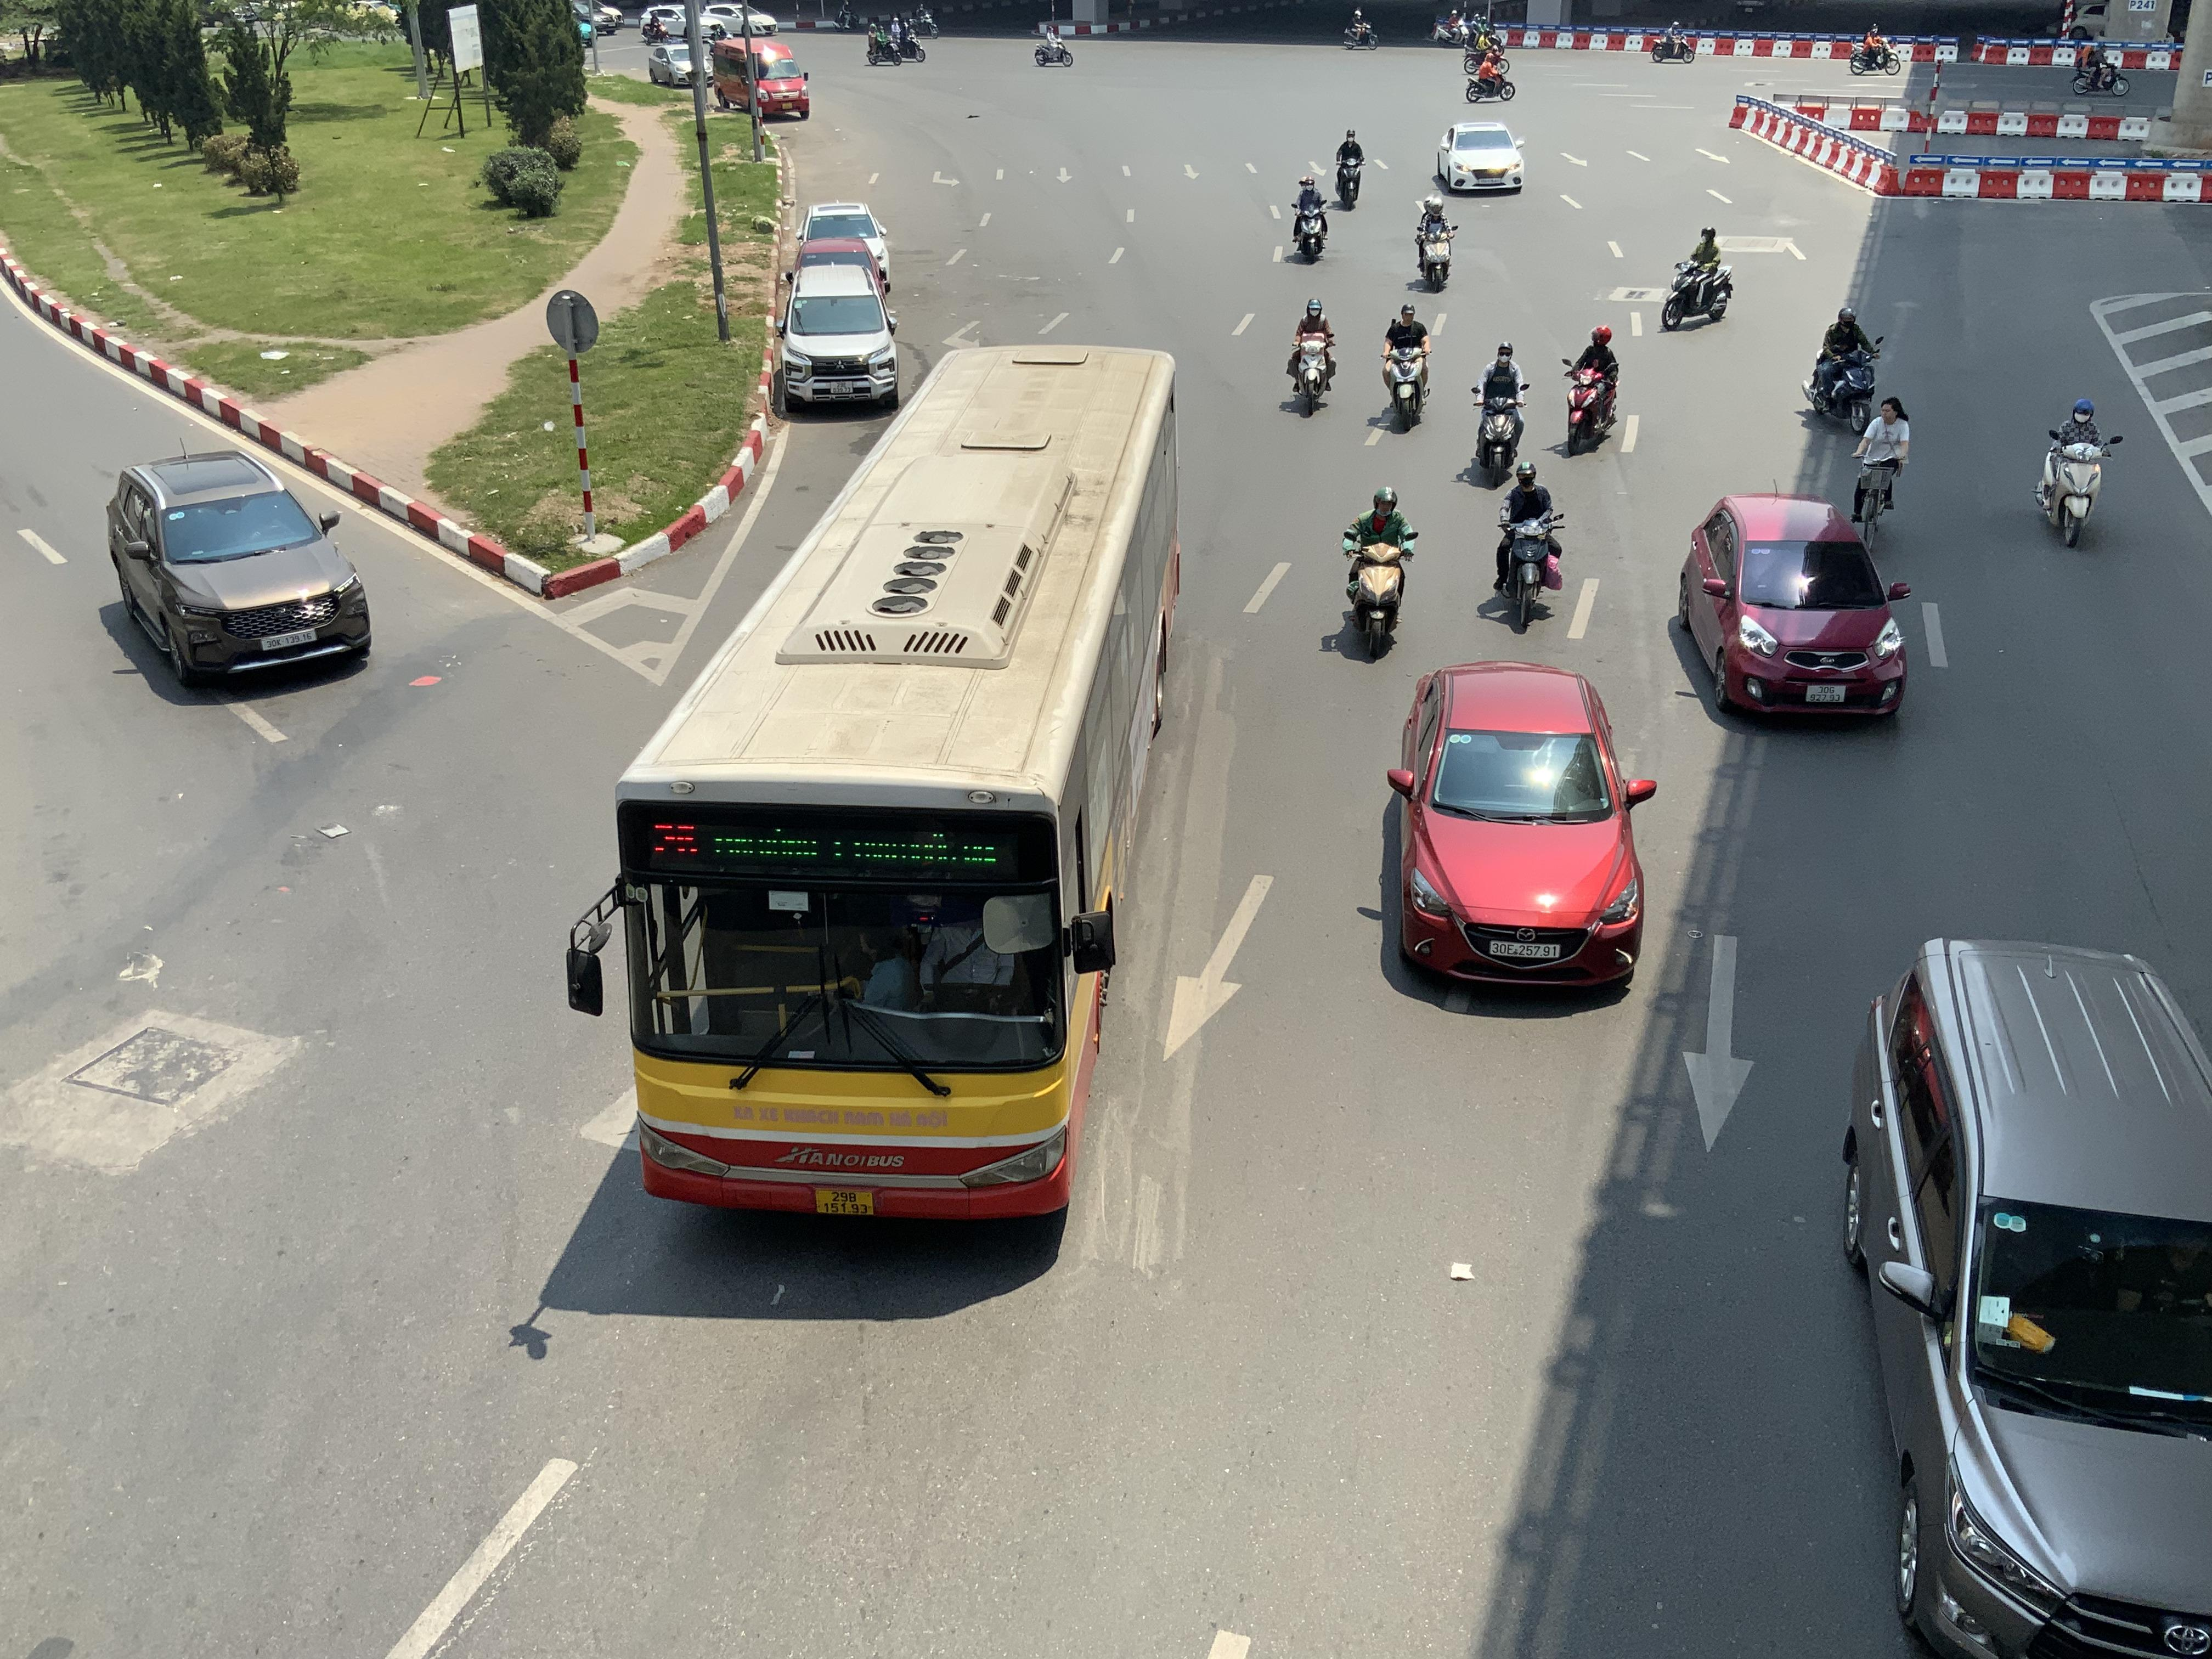BSD: (1491, 941, 1562, 960), (261, 629, 315, 652)
BSV: (815, 1188, 874, 1215), (1806, 685, 1844, 704), (831, 380, 853, 394)
bus: (578, 338, 1186, 1225)
car: (1836, 934, 2212, 1659), (1378, 660, 1658, 995), (105, 448, 373, 687), (1670, 493, 1912, 721), (775, 256, 900, 410), (794, 199, 892, 291), (709, 38, 810, 119), (1433, 120, 1524, 195)
motorbike: (1336, 484, 1416, 662), (1484, 464, 1566, 634), (2036, 394, 2121, 551), (1801, 303, 1883, 432), (1468, 340, 1529, 488), (1850, 396, 1909, 544), (1561, 324, 1620, 457), (1660, 225, 1733, 329), (1376, 300, 1433, 432), (1284, 298, 1338, 416), (1411, 193, 1456, 293), (1287, 173, 1329, 265), (866, 10, 927, 64), (1465, 38, 1515, 103), (1332, 127, 1366, 209), (1848, 30, 1902, 75), (1649, 21, 1698, 63), (1033, 14, 1073, 64), (1341, 3, 1379, 51)
